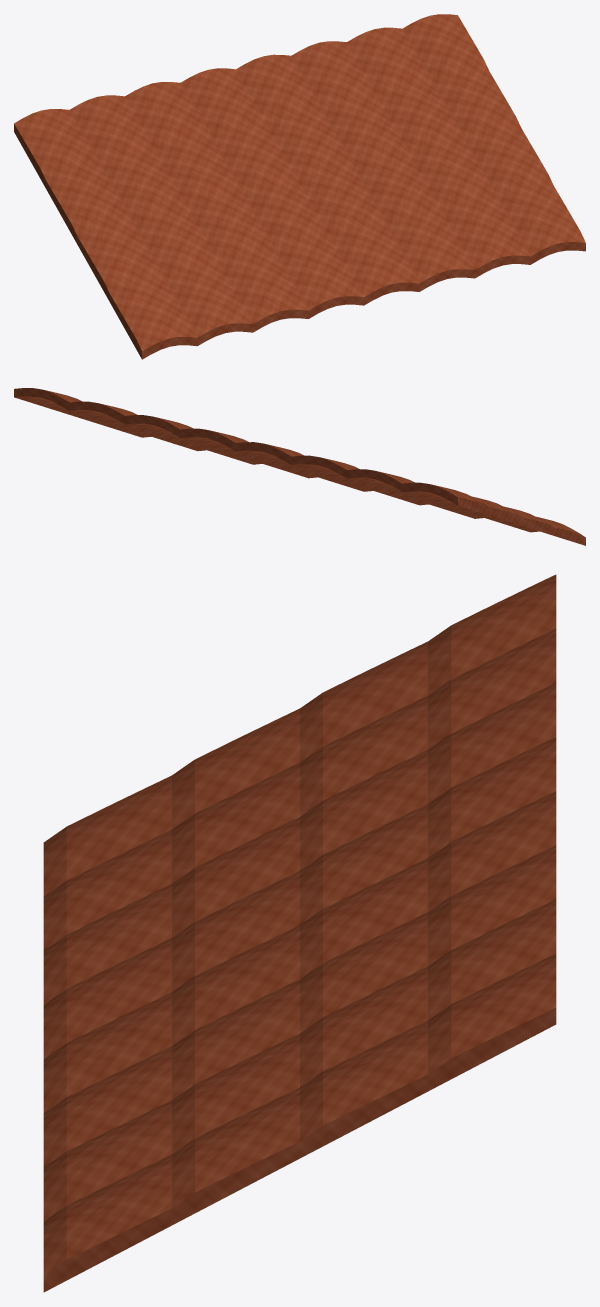
Rendered from MRP_Roof_Panel_2x1m.fbx.
3 renders of one model, top to bottom at view 1: azimuth 30°, elevation 25°; view 2: azimuth 150°, elevation 25°; view 3: azimuth 270°, elevation 25°, orthographic. The views are drawn at different scales.
Parts seen in each view (by area): view 1: Body; view 2: Body; view 3: Body.
Boxes of the visible parts, x1,y1,x2,y2 form: Body: [14, 14, 585, 359]; Body: [14, 388, 585, 545]; Body: [43, 574, 556, 1292].
Size of the model in its own units: 2 by 0.6409 by 1.
